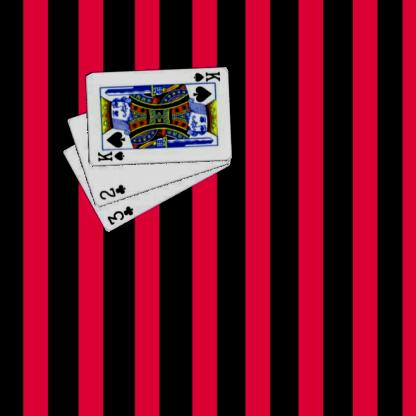2C: (96, 182, 127, 201)
3C: (104, 204, 135, 226)
KS: (188, 70, 220, 86), (95, 149, 125, 163)
